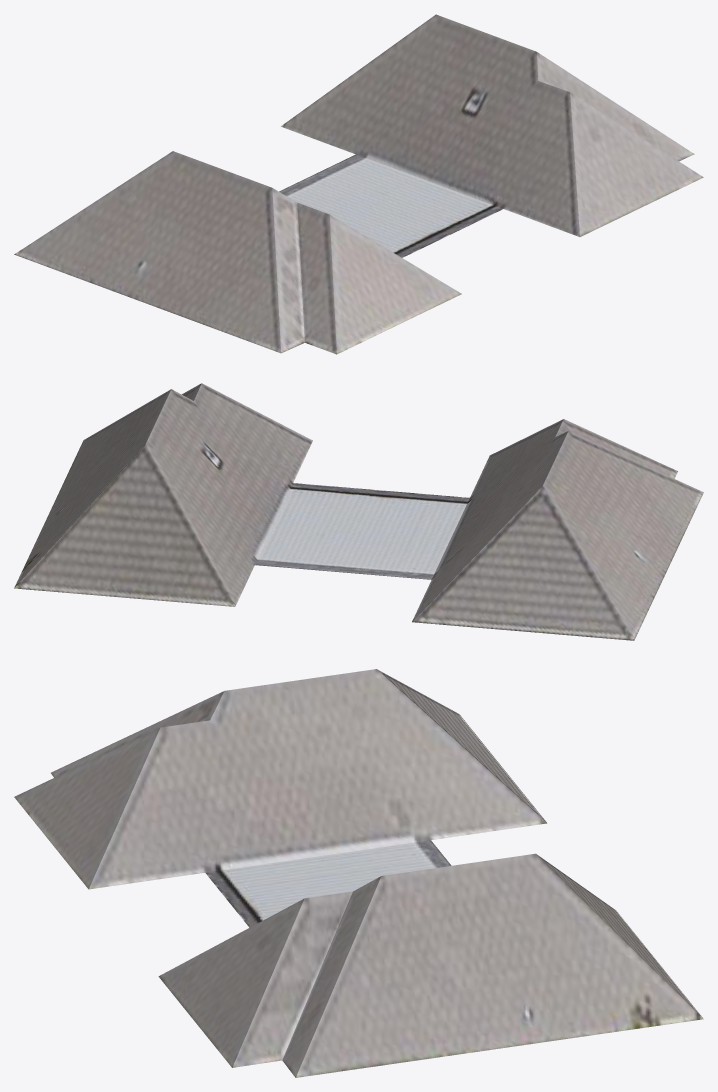
File: BJ39_500_100047_0009_roof.obj
The picture shows the model from 3 angles, top to bottom: view 1: azimuth 30°, elevation 25°; view 2: azimuth 150°, elevation 25°; view 3: azimuth 270°, elevation 25°; orthographic projection. The views are drawn at different scales.
Parts seen in each view (by area): view 1: BJ39_500_100047_0009_roof; view 2: BJ39_500_100047_0009_roof; view 3: BJ39_500_100047_0009_roof.
Boxes of the visible parts, x1,y1,x2,y2 form: BJ39_500_100047_0009_roof: (14, 14, 703, 354); BJ39_500_100047_0009_roof: (14, 383, 703, 640); BJ39_500_100047_0009_roof: (14, 669, 703, 1077).
Bounding box in the file's own units: 458 × 76.01 × 367.
Materials: 1 (1 with a texture image).
